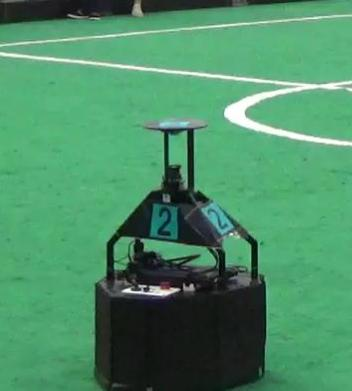robot: (92, 117, 269, 390)
